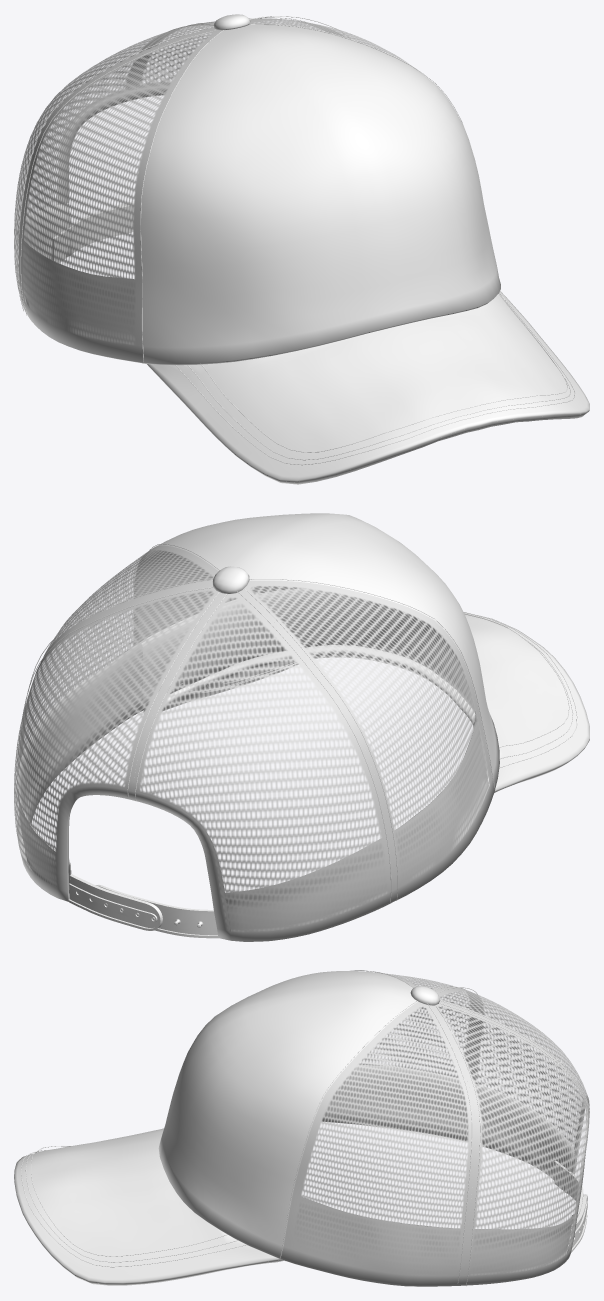
File: gorra_abierta.glb
3 views of the same model, one above another, from view 1: azimuth 30°, elevation 25°; view 2: azimuth 150°, elevation 25°; view 3: azimuth 270°, elevation 25° (orthographic). The views are drawn at different scales.
Visible parts, largest first — view 1: crown_front_outside, visor_up, crown_right, crown_back_right, sweatband, snapback, crown_back_left, visor_stitch_up, visor_under, crown_left, crown_stitch_front_001; view 2: crown_back_right, crown_right, crown_back_left, crown_front_outside, crown_front_inside, crown_left, sweatband, visor_up, snapback, visor_under, visor_stitch_up, squatchee; view 3: crown_front_outside, crown_left, crown_back_left, visor_up, crown_back_right, sweatband, crown_right, snapback, visor_stitch_up, visor_under, squatchee.
Boxes of the visible parts, <box> form: crown_front_outside: <box>140,25,500,365</box>; visor_up: <box>147,291,589,482</box>; crown_right: <box>21,29,222,363</box>; crown_back_right: <box>14,23,214,311</box>; sweatband: <box>17,86,168,344</box>; snapback: <box>52,201,134,262</box>; crown_back_left: <box>132,18,336,90</box>; visor_stitch_up: <box>175,292,575,465</box>; visor_under: <box>153,371,588,484</box>; crown_left: <box>249,19,424,75</box>; crown_stitch_front_001: <box>140,24,489,361</box>; crown_back_right: <box>132,591,393,941</box>; crown_right: <box>241,580,494,901</box>; crown_back_left: <box>14,585,222,901</box>; crown_front_outside: <box>145,513,499,790</box>; crown_front_inside: <box>137,550,489,783</box>; crown_left: <box>21,545,218,811</box>; sweatband: <box>17,703,488,931</box>; visor_up: <box>442,612,589,791</box>; snapback: <box>68,874,218,938</box>; visor_under: <box>162,645,566,792</box>; visor_stitch_up: <box>171,612,577,767</box>; squatchee: <box>212,566,249,593</box>; crown_front_outside: <box>158,971,417,1259</box>; crown_left: <box>281,1001,475,1286</box>; crown_back_left: <box>431,1002,589,1285</box>; visor_up: <box>14,1128,280,1283</box>; crown_back_right: <box>436,988,589,1192</box>; sweatband: <box>291,1067,586,1275</box>; crown_right: <box>322,972,475,1139</box>; snapback: <box>554,1161,587,1253</box>; visor_stitch_up: <box>21,1145,246,1267</box>; visor_under: <box>35,1235,283,1285</box>; squatchee: <box>410,986,439,1005</box>.
Size of the model in its own units: 0.1498 by 0.1033 by 0.2274.
3 materials, 1 textured.
